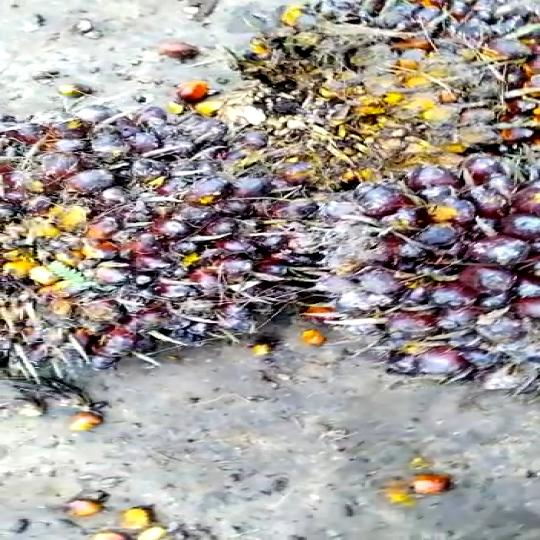kurang masak: (0, 81, 345, 401), (278, 164, 540, 397), (237, 2, 540, 189)
